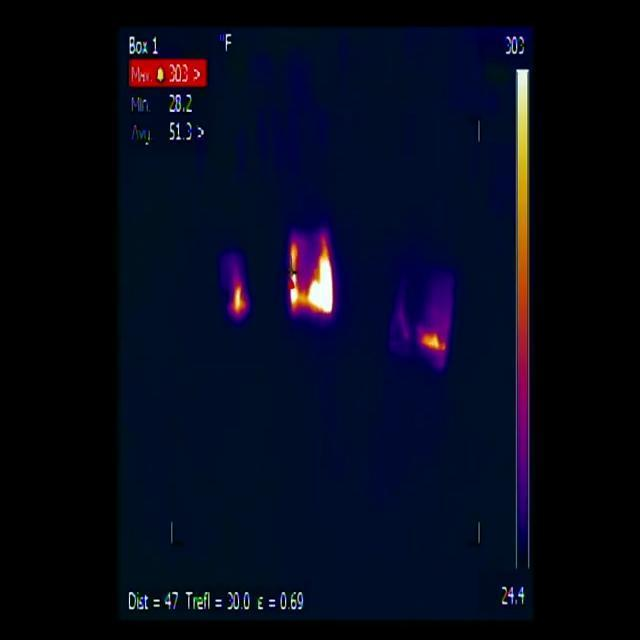fire: (290, 238, 336, 320), (230, 278, 250, 315), (421, 328, 448, 354)
